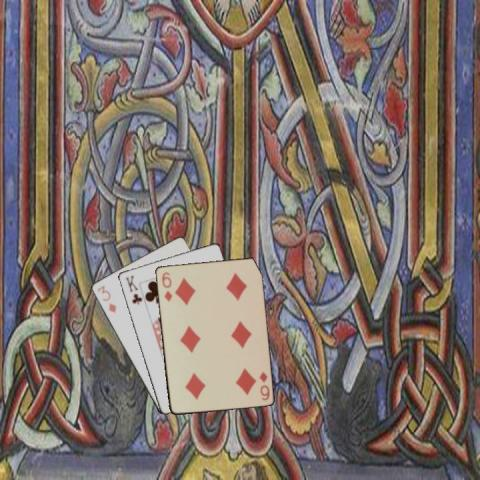3d: (94, 283, 117, 314)
6d: (256, 369, 271, 401), (159, 269, 173, 303)
Kc: (122, 272, 143, 306)
